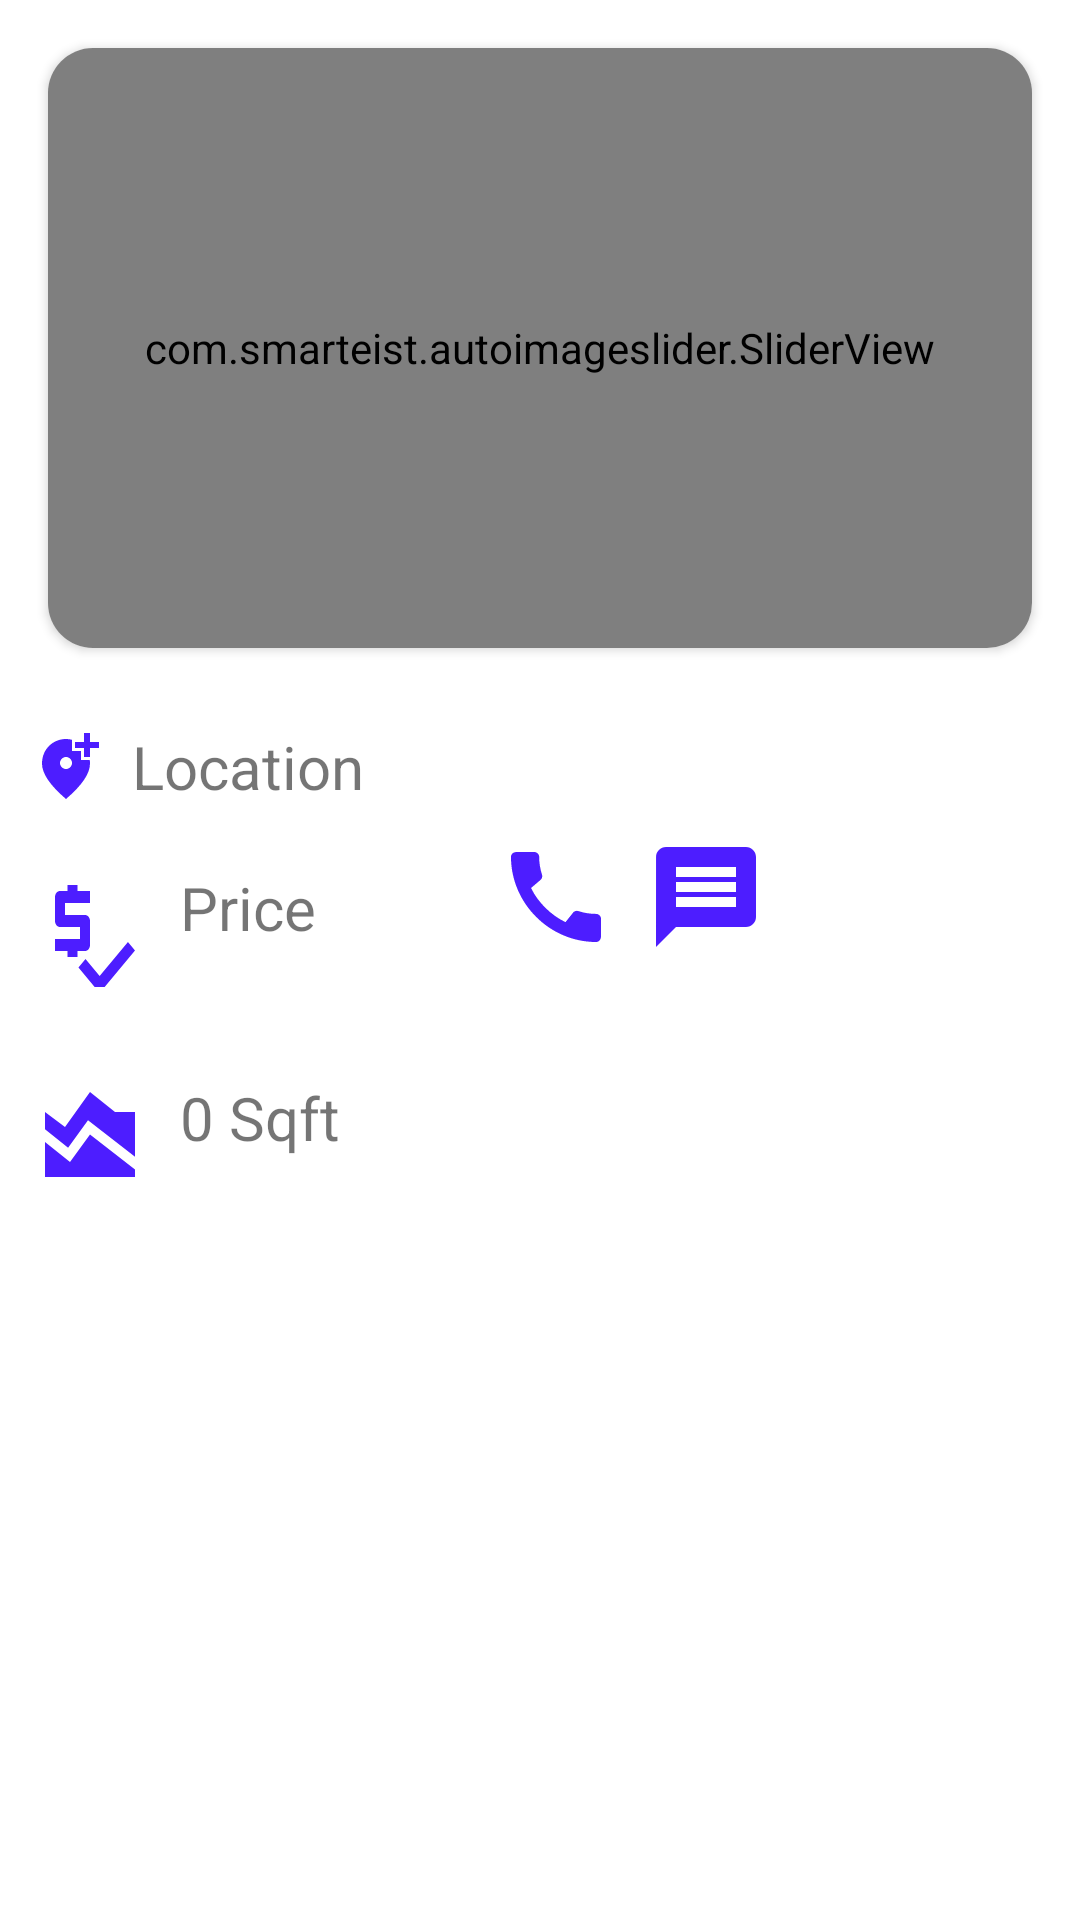

Icons on this 1080px×1920px Android screen, each with the point to tap as (x,y):
call: (556,897)
message: (706,897)
